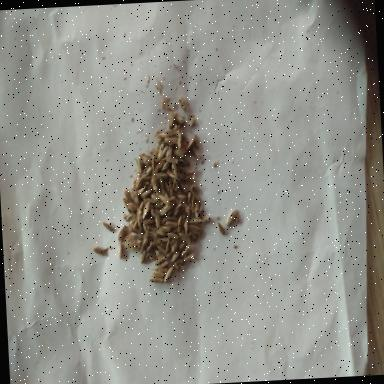pbw: (172, 152, 191, 166), (180, 242, 196, 258), (159, 200, 176, 215), (157, 142, 169, 161), (124, 238, 140, 251), (188, 191, 196, 216), (190, 183, 200, 203), (125, 233, 143, 244), (140, 165, 153, 179), (178, 231, 192, 244), (132, 174, 144, 189), (122, 196, 132, 214), (160, 214, 178, 224), (225, 210, 236, 226), (190, 144, 201, 160), (138, 237, 148, 254), (138, 153, 151, 166), (150, 192, 163, 205), (154, 158, 166, 172), (183, 138, 195, 152), (117, 224, 127, 240), (136, 208, 144, 228), (164, 266, 174, 282), (173, 199, 183, 215), (164, 144, 174, 160), (101, 220, 114, 232), (177, 162, 189, 175), (178, 181, 190, 194), (141, 201, 150, 218), (166, 112, 176, 127), (92, 246, 107, 256), (158, 194, 170, 206), (154, 254, 166, 266), (150, 266, 168, 274), (134, 156, 142, 174), (187, 223, 200, 234), (174, 113, 185, 126), (169, 249, 180, 262), (164, 135, 178, 145), (123, 188, 133, 202), (141, 216, 155, 226), (130, 187, 138, 204), (154, 171, 169, 180), (140, 187, 152, 198), (188, 216, 204, 224), (156, 130, 172, 138), (146, 229, 157, 240), (156, 244, 167, 255), (126, 201, 138, 211), (178, 97, 186, 112), (173, 147, 185, 157), (174, 191, 186, 201), (157, 224, 172, 232), (154, 208, 160, 228), (171, 163, 178, 180), (176, 214, 183, 231), (217, 220, 225, 234), (148, 276, 164, 283), (164, 156, 178, 164), (136, 184, 147, 194), (124, 212, 135, 222), (168, 178, 174, 196), (184, 203, 191, 218), (166, 219, 179, 227), (182, 253, 195, 261), (128, 226, 141, 234), (150, 175, 156, 192), (159, 178, 165, 195), (191, 232, 201, 242), (166, 206, 176, 216), (152, 271, 166, 278), (154, 228, 166, 236), (152, 202, 164, 210), (140, 248, 146, 264), (143, 196, 155, 204), (166, 231, 178, 239), (160, 161, 169, 171), (194, 201, 199, 218), (118, 243, 123, 260), (158, 260, 168, 268), (164, 180, 170, 193), (172, 240, 178, 252), (166, 240, 172, 252), (184, 217, 188, 235), (142, 228, 148, 240), (158, 236, 170, 242), (138, 200, 144, 211), (194, 134, 198, 150), (186, 190, 191, 202), (234, 210, 239, 222), (148, 254, 156, 261), (165, 251, 172, 258), (141, 180, 149, 186), (202, 216, 210, 222), (179, 241, 185, 249)
